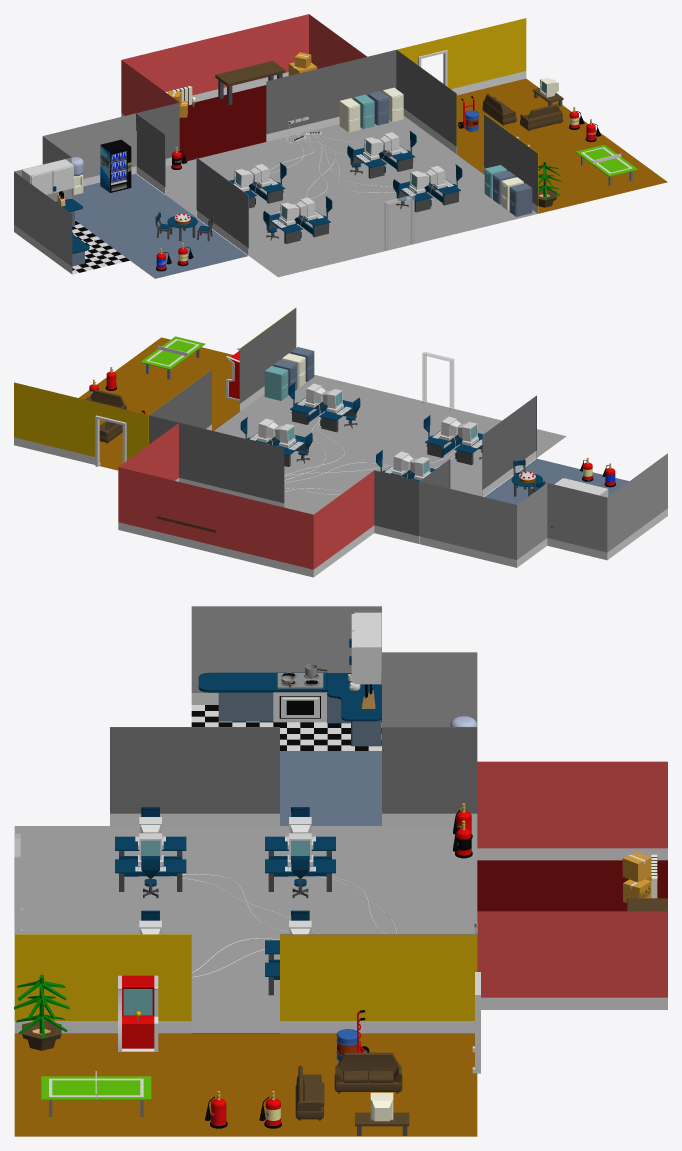
Rendered from Section3_FIXED-RoomGrouping.fbx.
The picture shows the model from 3 angles, top to bottom: view 1: azimuth 30°, elevation 25°; view 2: azimuth 150°, elevation 25°; view 3: azimuth 270°, elevation 25°; orthographic projection. The views are drawn at different scales.
Parts seen in each view (by area): view 1: Office1, Floor_Walls3, Kitchen1, Storage1, VendingMachine, StorageTable, Pingpong, Sofa1, FileCabinet7, Cabinet, FileCabinet, Cabinet1 (+14 smaller); view 2: Office1, Storage1, Kitchen1, Floor_Walls3, Pingpong, FileCabinet4, MainEntranceDoorFrame, KitchenDoorFrame, Arcade, Desk1, Desk, Desk6 (+5 smaller); view 3: Office1, Floor_Walls3, Storage1, Kitchen1, KitchenCounter1, Arcade, Pingpong, KitchenCounter, Stove, Sofa, Bigplant, Cabinet (+6 smaller).
Part boxes in pixels (<box>): Office1: <box>136,50,537,277</box>; Floor_Walls3: <box>396,18,667,213</box>; Kitchen1: <box>14,113,247,278</box>; Storage1: <box>121,14,366,162</box>; VendingMachine: <box>100,139,131,192</box>; StorageTable: <box>215,61,285,105</box>; Pingpong: <box>576,144,637,185</box>; Sofa1: <box>520,104,562,130</box>; FileCabinet7: <box>509,183,532,216</box>; Cabinet: <box>44,159,73,192</box>; FileCabinet: <box>339,98,360,132</box>; Cabinet1: <box>22,164,52,194</box>; Office1: <box>149,375,566,543</box>; Storage1: <box>118,423,374,577</box>; Kitchen1: <box>420,453,667,567</box>; Floor_Walls3: <box>14,307,296,470</box>; Pingpong: <box>140,336,204,379</box>; FileCabinet4: <box>264,366,288,400</box>; MainEntranceDoorFrame: <box>421,351,454,410</box>; KitchenDoorFrame: <box>95,415,126,466</box>; Arcade: <box>225,347,239,400</box>; Desk1: <box>425,430,462,457</box>; Desk: <box>290,397,327,424</box>; Desk6: <box>319,400,356,432</box>; Office1: <box>14,727,477,1032</box>; Floor_Walls3: <box>14,934,477,1136</box>; Storage1: <box>477,761,667,1009</box>; Kitchen1: <box>191,606,477,825</box>; KitchenCounter1: <box>198,672,273,721</box>; Arcade: <box>118,975,158,1051</box>; Pingpong: <box>41,1071,151,1116</box>; KitchenCounter: <box>327,673,381,746</box>; Stove: <box>273,672,327,722</box>; Sofa: <box>334,1052,402,1093</box>; Bigplant: <box>14,974,69,1050</box>; Cabinet: <box>349,630,381,684</box>.
Bounding box in the file's own units: 75.19 × 8.03 × 48.04.
